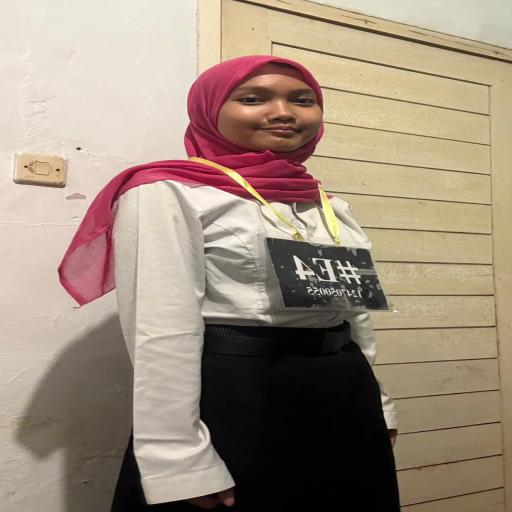kemeja_benar: (91, 180, 382, 330)
kerudung_benar: (121, 54, 364, 198)
nametag_ada: (244, 193, 402, 314)
rok_benar: (124, 350, 406, 512)
sabuk_ada: (189, 318, 369, 363)
